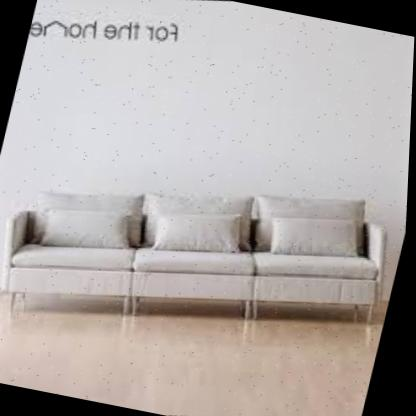Sofa: (0, 96, 413, 400)
